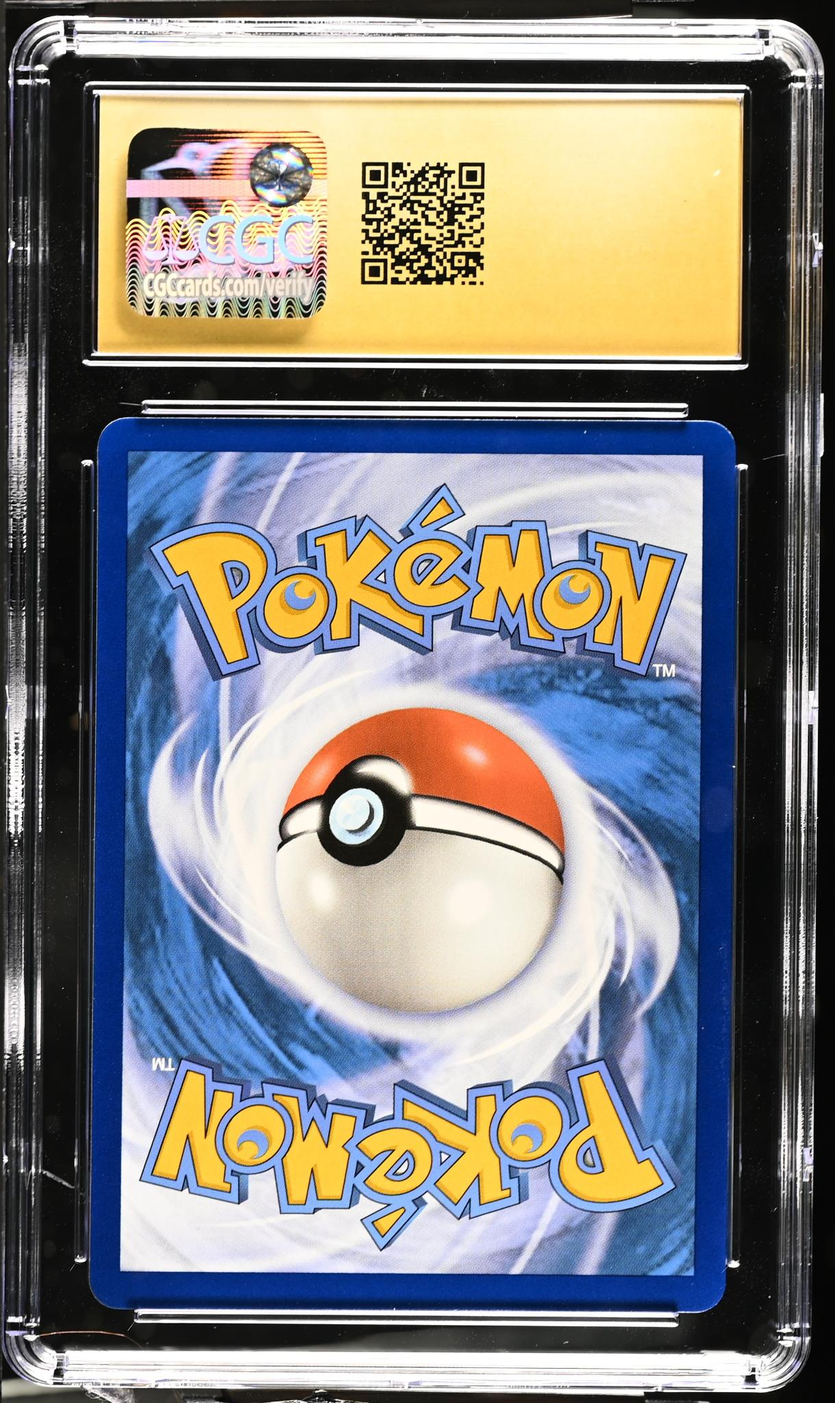card-2UtV: (88, 417, 736, 1313)
